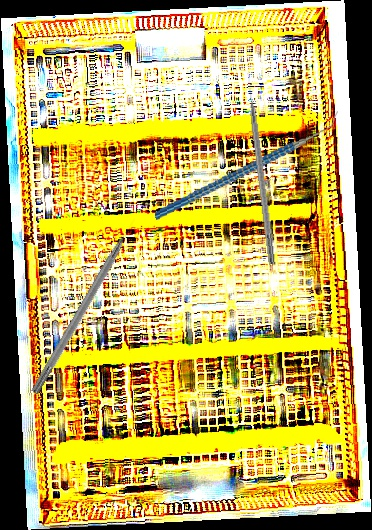Chopper: (144, 108, 349, 221)
Hook Surgical: (30, 215, 141, 397), (244, 72, 277, 265)
